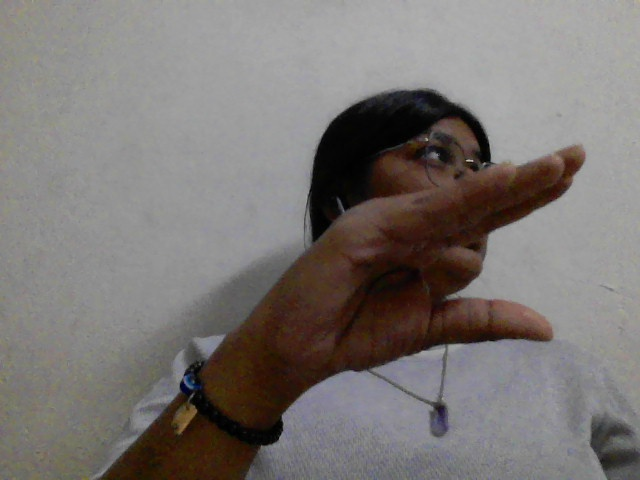no: (205, 132, 609, 382)
